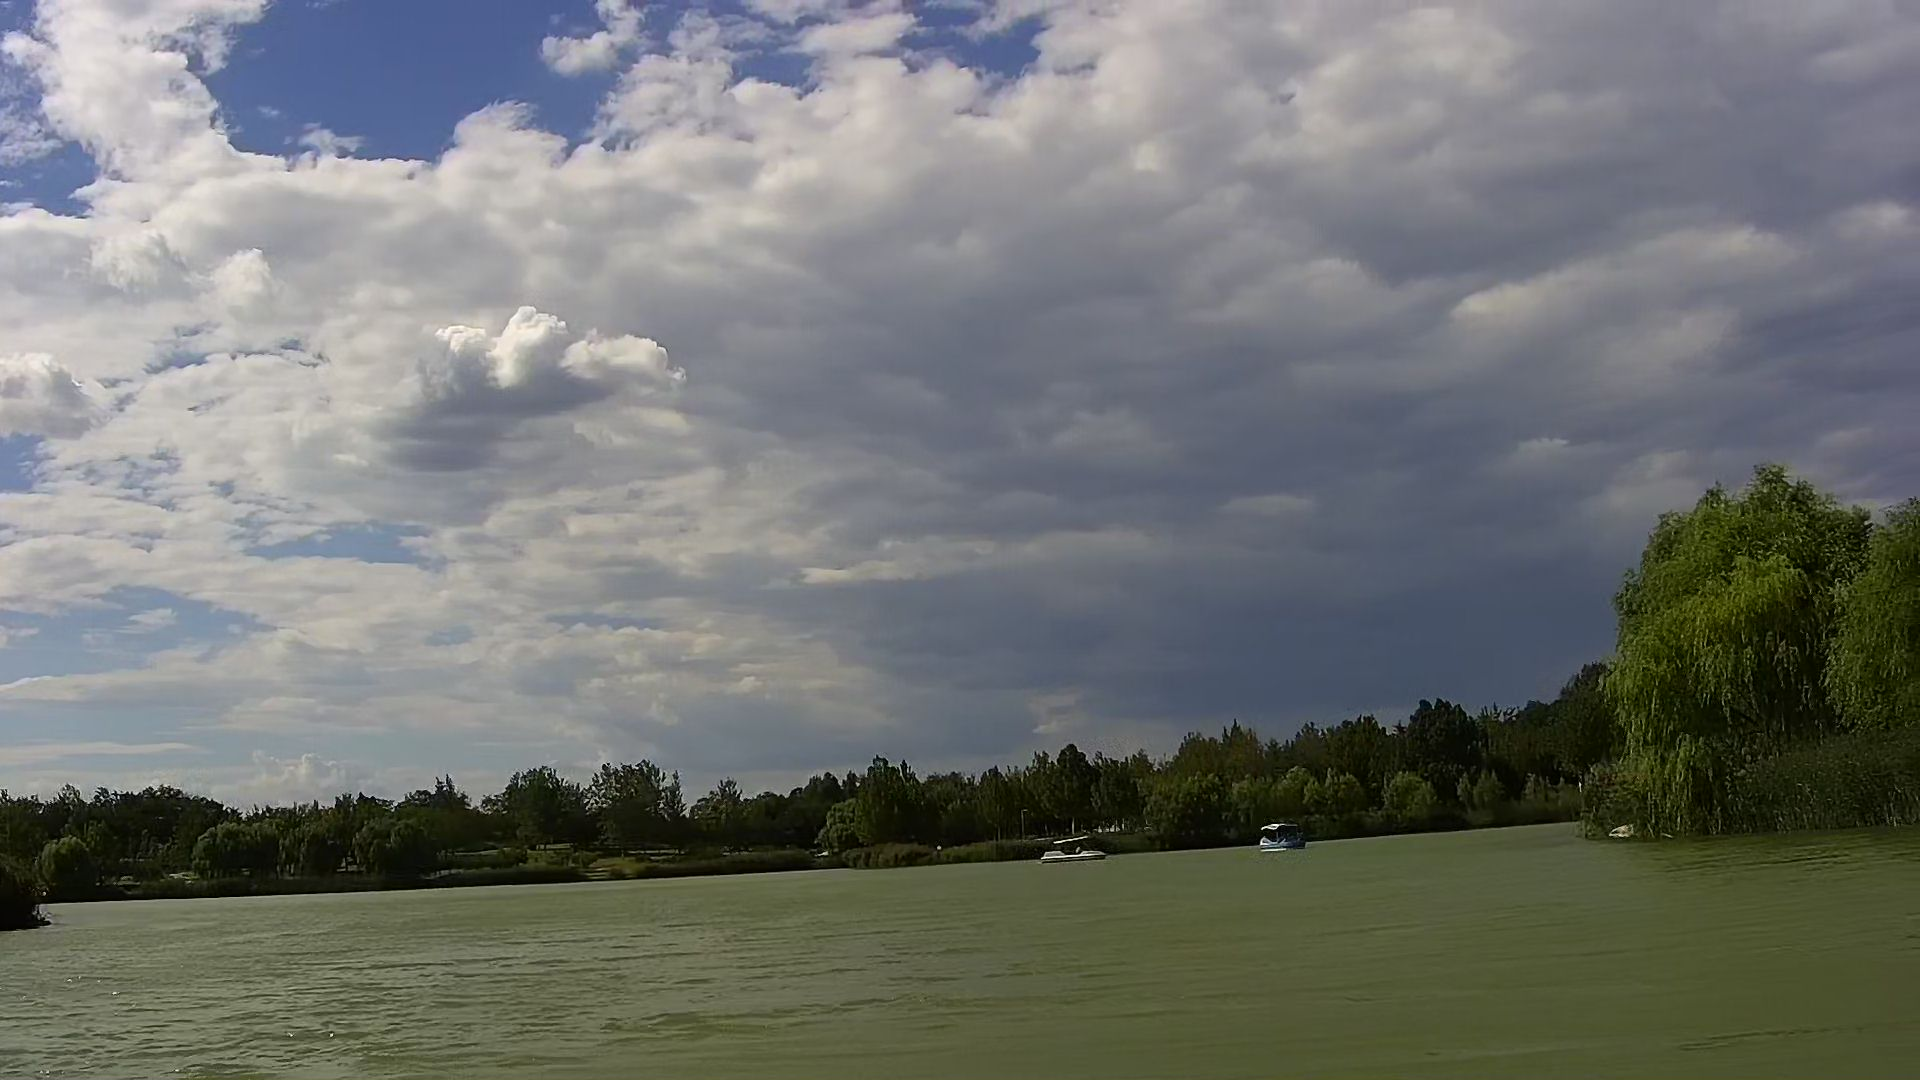boat: (1254, 818, 1313, 856), (1039, 835, 1106, 868)
rock: (1609, 823, 1635, 843)
